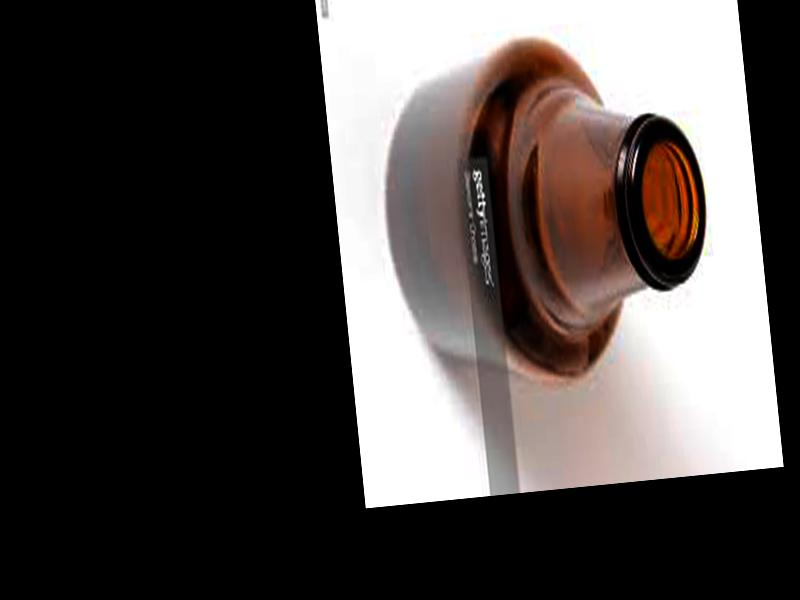Beer: (369, 24, 722, 400)
